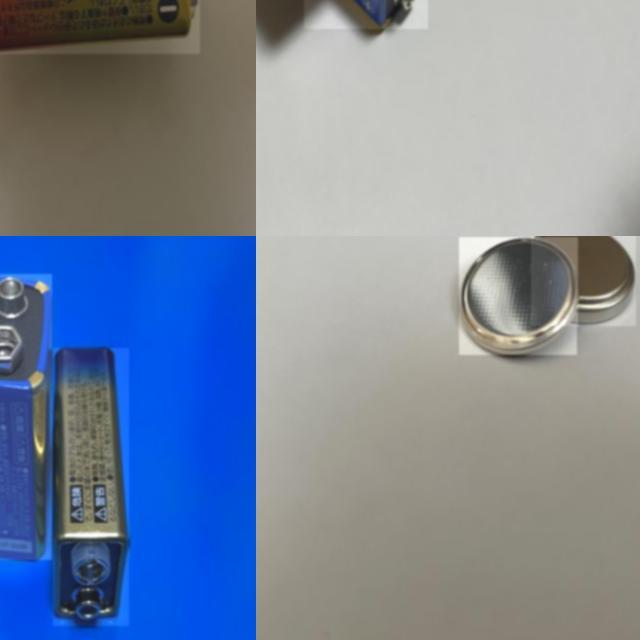9V: (54, 348, 130, 626), (0, 274, 52, 559), (0, 0, 200, 54)
